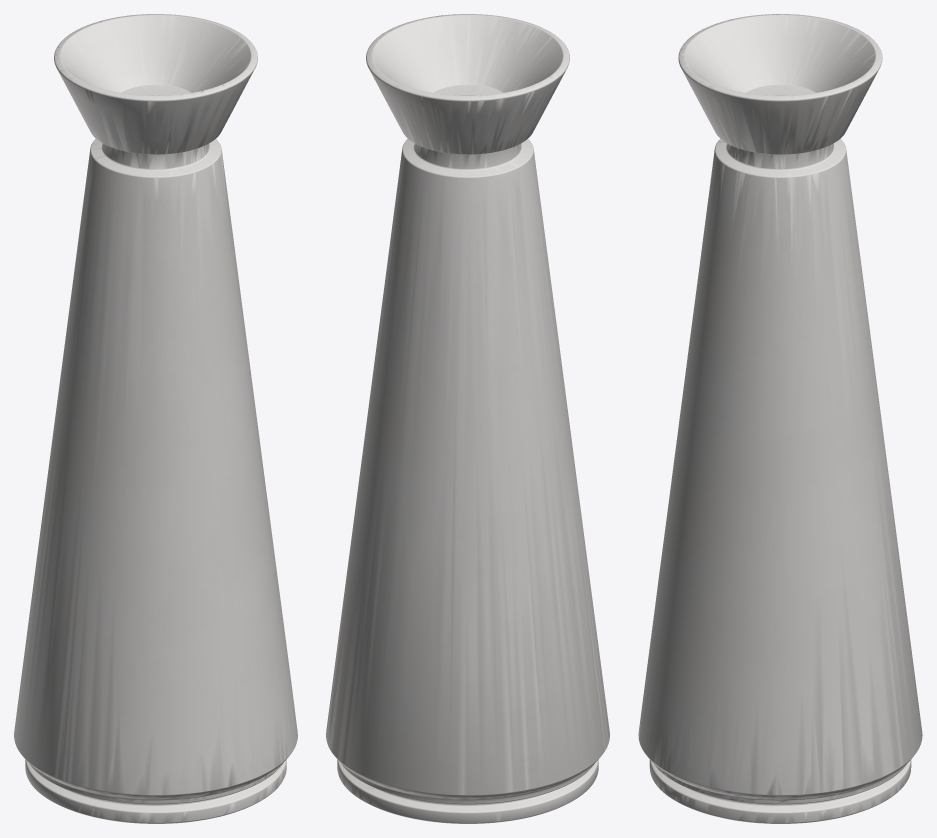
Rendered from queen-white-hd.glb.
3 renders of one model, left to right at view 1: azimuth 30°, elevation 25°; view 2: azimuth 150°, elevation 25°; view 3: azimuth 270°, elevation 25°, orthographic.
Visible parts, largest first — view 1: 02_dama_bila; view 2: 02_dama_bila; view 3: 02_dama_bila.
Boxes of the visible parts, x1=… form: 02_dama_bila: x1=14, y1=14, x2=297, y2=823; 02_dama_bila: x1=326, y1=14, x2=609, y2=823; 02_dama_bila: x1=638, y1=14, x2=922, y2=823.
Bounding box in the file's own units: 0.5836 × 1.62 × 0.5836.
1 material, 1 textured.
